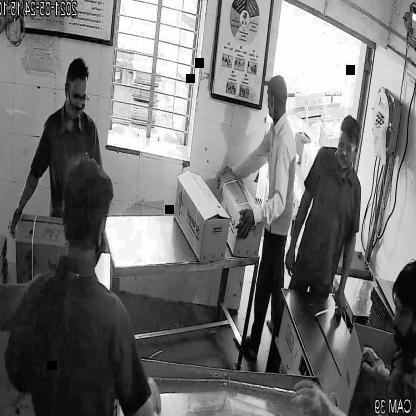goggles: (336, 135, 360, 156)
